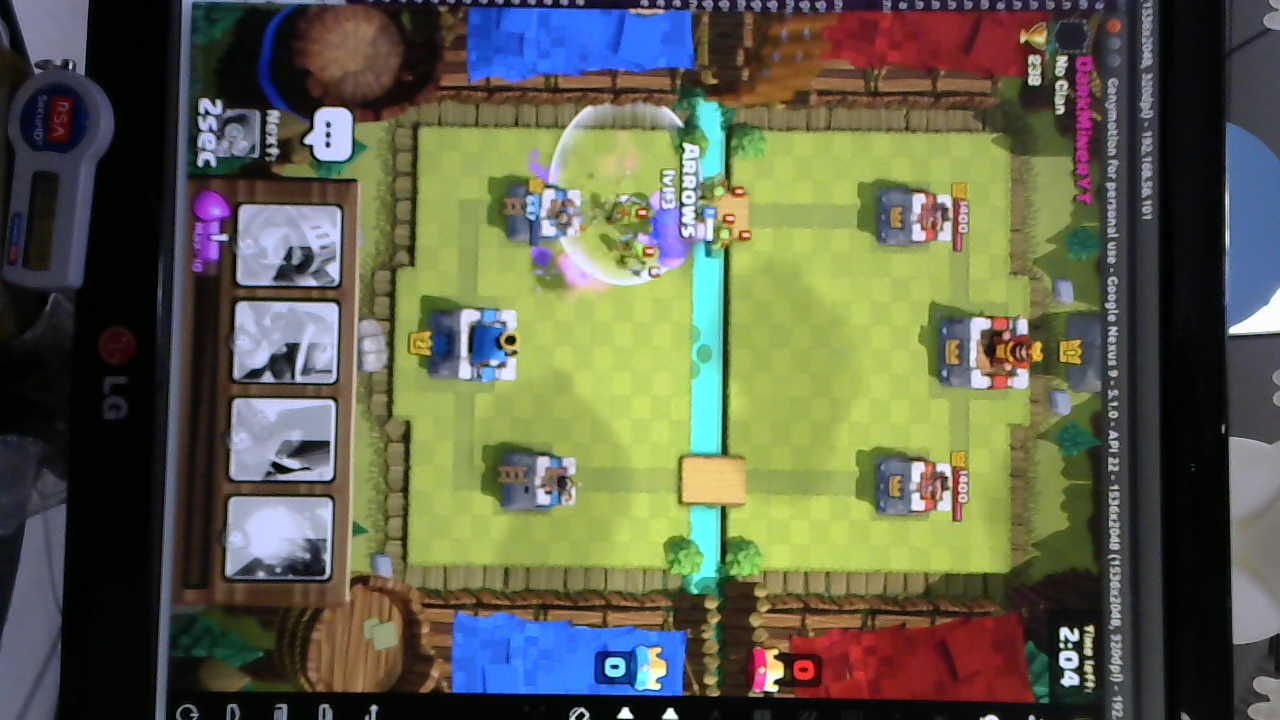arena: (504, 183, 581, 246), (506, 449, 574, 512)
earena: (875, 454, 958, 519), (881, 186, 955, 245)
eking: (932, 312, 1034, 392)
giant: (649, 187, 706, 270)
goblins: (609, 198, 658, 267)
king: (424, 305, 518, 387)
speargoblins: (695, 180, 747, 256)
